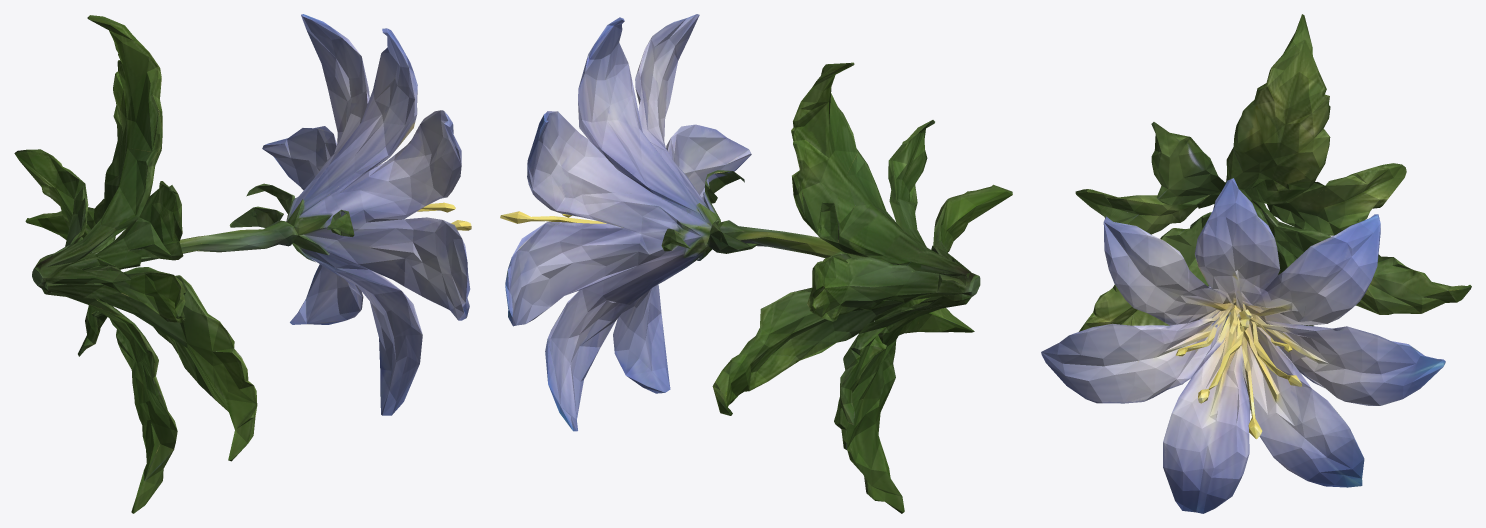
Rendered from revive_flower.glb.
The picture shows the model from 3 angles, left to right: view 1: azimuth 30°, elevation 25°; view 2: azimuth 150°, elevation 25°; view 3: azimuth 270°, elevation 25°; orthographic projection. The views are drawn at different scales.
Visible parts, largest first — view 1: GLTF; view 2: GLTF; view 3: GLTF.
Part boxes in pixels (x1,y1,x2,y2): GLTF: (14, 14, 471, 513); GLTF: (500, 14, 1012, 513); GLTF: (1041, 14, 1471, 513).
Size of the model in its own units: 1.81 by 1.9 by 1.7.
Materials: 1 (1 with a texture image).
